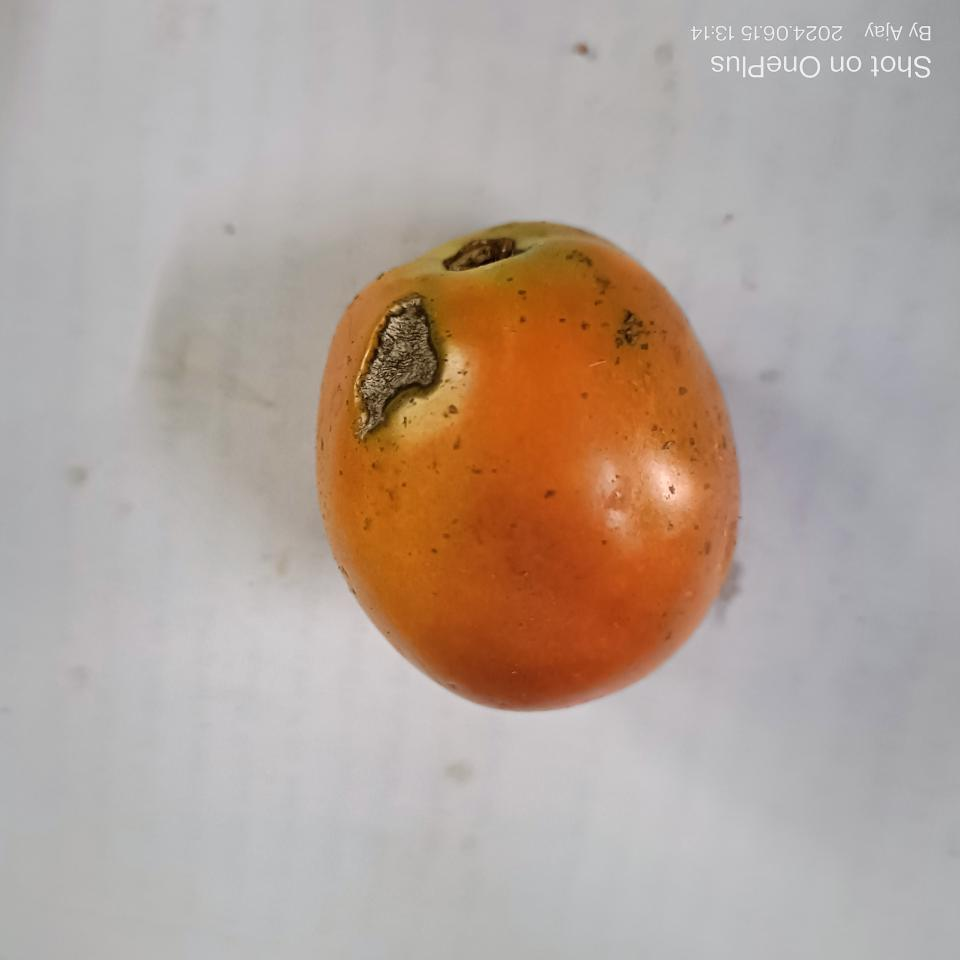Bacterial_Spot: (358, 292, 442, 442), (606, 314, 648, 355)
